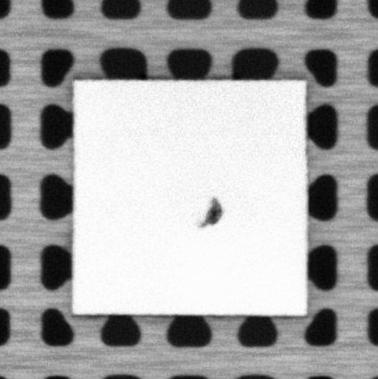DIE_INK: (195, 196, 224, 228)
